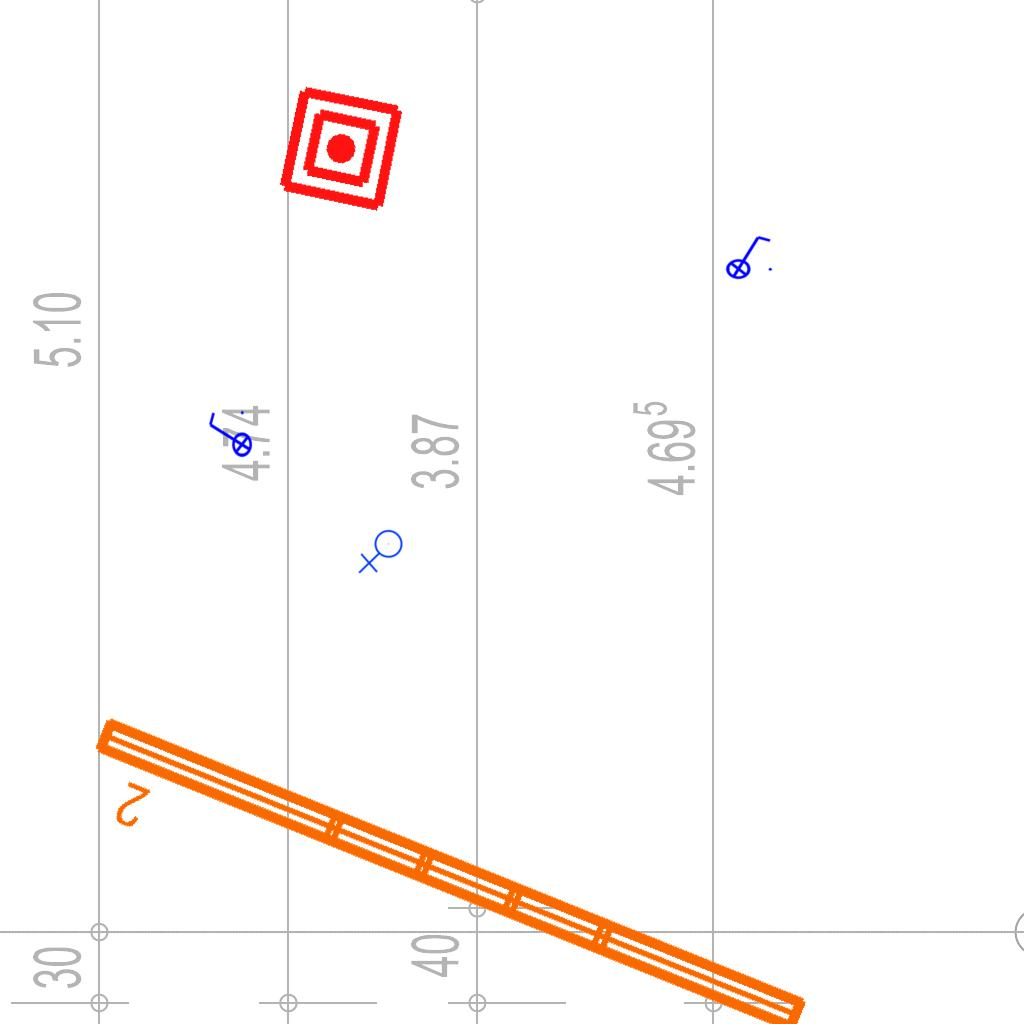Ambulanz_Pendelleuchte_LED: (62, 702, 822, 1024)
Ausschalter_beleuchtet: (205, 408, 253, 464), (719, 232, 775, 280)
Elektroanschluss_allgemein_230V_Geraeteanschlussdose_230V: (358, 529, 407, 576)
NAM-Nichtautomatischer_Melder: (274, 81, 409, 216)
